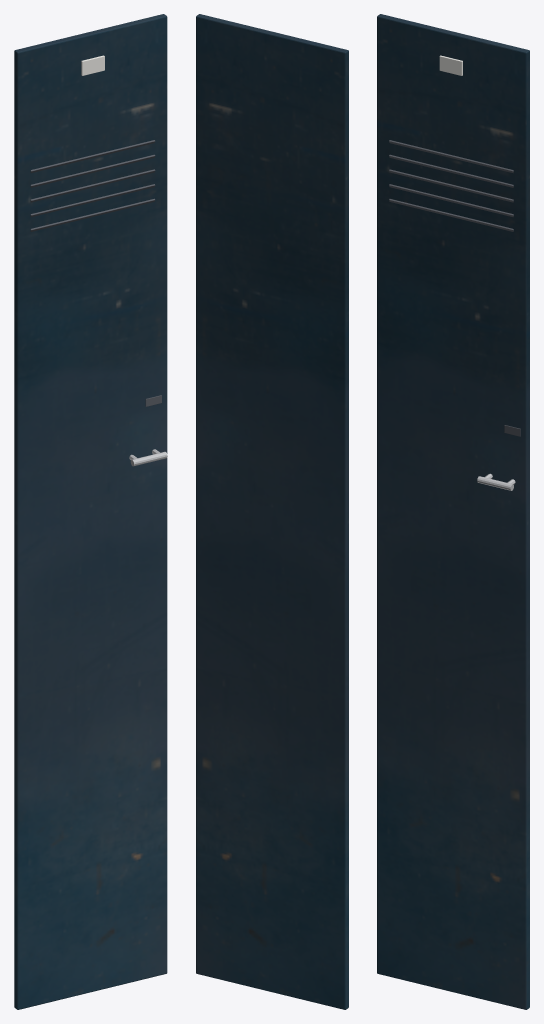
File: locker_door_3.glb
The picture shows the model from 3 angles, left to right: view 1: azimuth 30°, elevation 25°; view 2: azimuth 150°, elevation 25°; view 3: azimuth 330°, elevation 25°; orthographic projection.
Parts seen in each view (by area): view 1: LockerDoor_3; view 2: LockerDoor_3; view 3: LockerDoor_3.
Boxes of the visible parts, x1,y1,x2,y2 form: LockerDoor_3: (14, 14, 167, 1009); LockerDoor_3: (196, 14, 348, 1009); LockerDoor_3: (377, 14, 529, 1009).
Size of the model in its own units: 0.3336 by 2.03 by 0.045.
4 materials, 1 textured.
